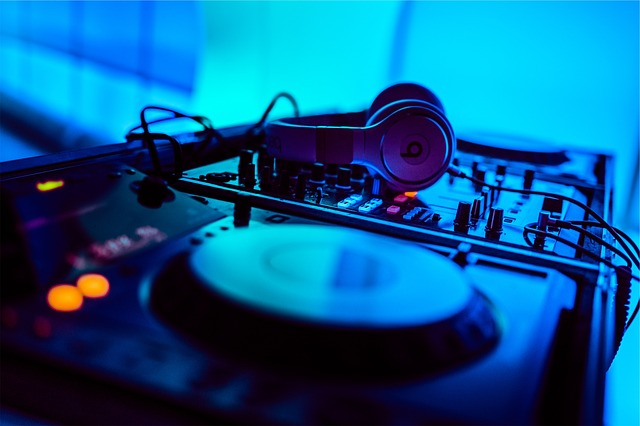headphones: (266, 82, 457, 192)
